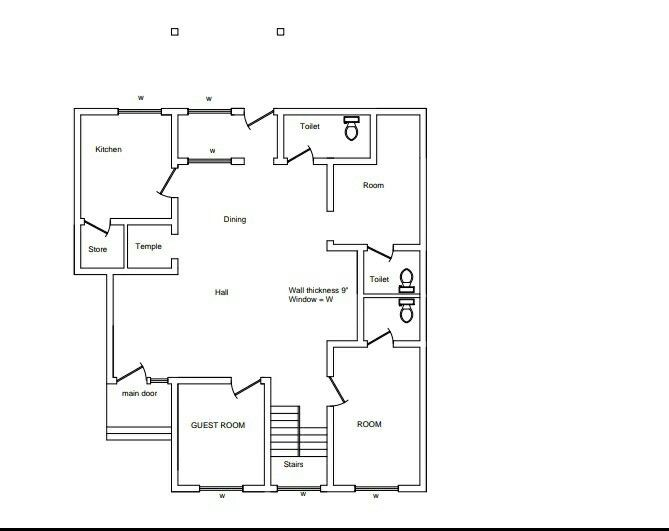door: (228, 374, 260, 400), (155, 167, 178, 199), (84, 214, 114, 238), (328, 378, 351, 409), (120, 365, 149, 386), (368, 243, 396, 262), (370, 330, 394, 350), (292, 144, 314, 165)
room: (106, 276, 328, 384), (172, 166, 328, 281), (328, 339, 425, 493), (71, 108, 178, 221), (168, 378, 269, 492), (333, 162, 425, 252), (274, 107, 376, 168), (123, 220, 179, 277), (71, 219, 128, 270)
wall: (416, 108, 428, 495), (71, 106, 83, 273), (276, 103, 423, 116), (169, 377, 182, 491), (101, 274, 114, 384), (260, 378, 273, 487), (76, 263, 178, 275), (355, 244, 367, 342), (166, 109, 184, 165), (325, 406, 335, 493), (321, 162, 338, 210), (109, 215, 173, 226), (274, 110, 287, 163), (367, 109, 379, 163), (313, 158, 379, 167), (170, 375, 231, 384), (326, 242, 366, 254), (76, 107, 119, 117), (393, 338, 427, 350), (327, 339, 365, 348), (392, 243, 422, 253)
window: (356, 483, 398, 496), (278, 483, 313, 495), (119, 108, 163, 117), (200, 483, 241, 492), (188, 108, 232, 115), (188, 157, 230, 164), (147, 375, 169, 384)
